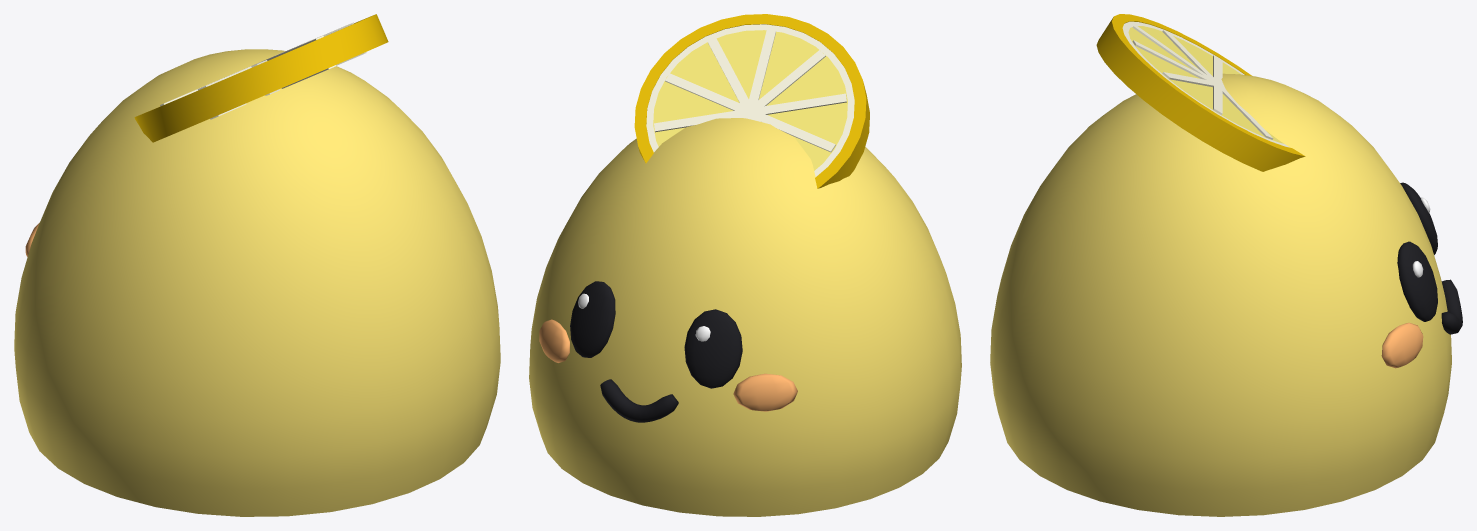
The model's file is LemonDrop.glb.
The picture shows the model from 3 angles, left to right: view 1: azimuth 30°, elevation 25°; view 2: azimuth 150°, elevation 25°; view 3: azimuth 270°, elevation 25°; orthographic projection. The views are drawn at different scales.
Parts seen in each view (by area): view 1: Body, LemonRind, LemonPith; view 2: Body, LemonFlesh, LemonPith, LemonRind, Eyes, Cheeks, Mouth; view 3: Body, LemonRind, LemonFlesh, LemonPith, Eyes, Cheeks, Mouth.
Part boxes in pixels (x1=…): Body: x1=14, y1=49, x2=500, y2=516; LemonRind: x1=134, y1=14, x2=388, y2=142; LemonPith: x1=160, y1=22, x2=366, y2=119; Body: x1=529, y1=118, x2=961, y2=516; LemonFlesh: x1=653, y1=30, x2=847, y2=170; LemonPith: x1=646, y1=24, x2=854, y2=176; LemonRind: x1=634, y1=14, x2=869, y2=188; Eyes: x1=570, y1=281, x2=742, y2=388; Cheeks: x1=539, y1=319, x2=797, y2=411; Mouth: x1=600, y1=379, x2=678, y2=422; Body: x1=990, y1=73, x2=1451, y2=516; LemonRind: x1=1096, y1=14, x2=1305, y2=171; LemonFlesh: x1=1128, y1=26, x2=1283, y2=143; LemonPith: x1=1122, y1=21, x2=1289, y2=147; Eyes: x1=1397, y1=182, x2=1437, y2=321; Cheeks: x1=1381, y1=322, x2=1423, y2=368; Mouth: x1=1441, y1=279, x2=1462, y2=334.
Bounding box in the file's own units: 3.2 × 3.05 × 3.27.
